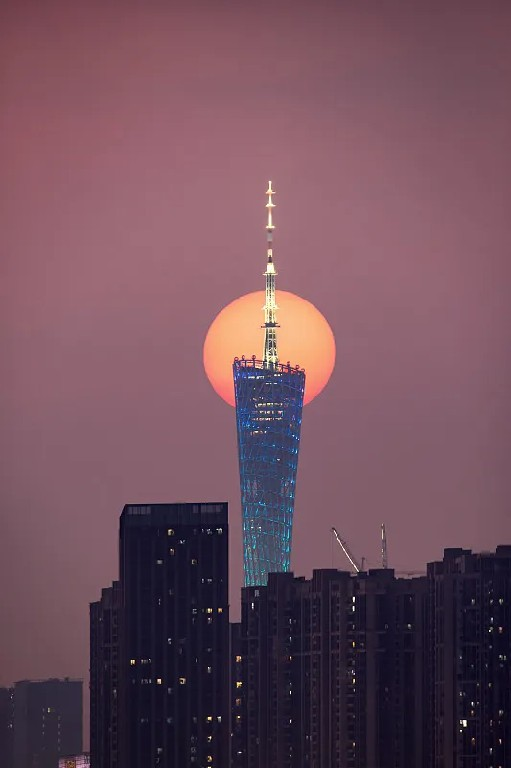Canton: (233, 175, 304, 577)
